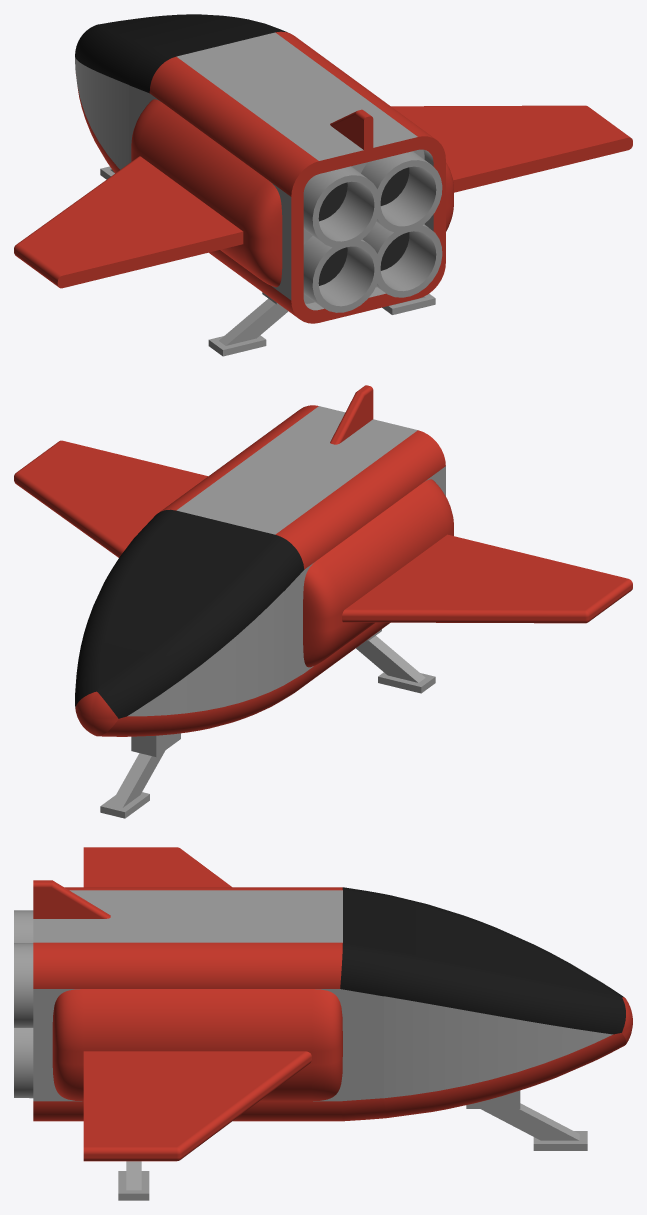
Rendered from Rocket 3 v4 1.fbx.
The picture shows the model from 3 angles, top to bottom: view 1: azimuth 30°, elevation 25°; view 2: azimuth 150°, elevation 25°; view 3: azimuth 270°, elevation 25°; orthographic projection. The views are drawn at different scales.
Parts seen in each view (by area): view 1: Body1, Body17, Body11, Body9, Body18, Body8; view 2: Body1, Body17, Body11, Body10, Body9, Body18; view 3: Body1, Body11, Body17, Body10, Body18, Body8.
Boxes of the visible parts, x1=… form: Body1: x1=75, y1=14, x2=445, y2=323; Body17: x1=14, y1=99, x2=282, y2=288; Body11: x1=391, y1=105, x2=632, y2=231; Body9: x1=208, y1=292, x2=288, y2=356; Body18: x1=330, y1=109, x2=373, y2=149; Body8: x1=382, y1=293, x2=435, y2=314; Body1: x1=75, y1=405, x2=445, y2=736; Body17: x1=303, y1=479, x2=632, y2=667; Body11: x1=14, y1=440, x2=207, y2=557; Body10: x1=100, y1=733, x2=180, y2=818; Body9: x1=356, y1=629, x2=435, y2=693; Body18: x1=330, y1=385, x2=373, y2=444; Body1: x1=14, y1=887, x2=632, y2=1121; Body11: x1=52, y1=989, x2=342, y2=1161; Body17: x1=83, y1=847, x2=231, y2=887; Body10: x1=466, y1=1090, x2=587, y2=1150; Body18: x1=33, y1=880, x2=110, y2=918; Body8: x1=118, y1=1161, x2=149, y2=1200.
Size of the model in its own units: 186 by 75 by 160.
